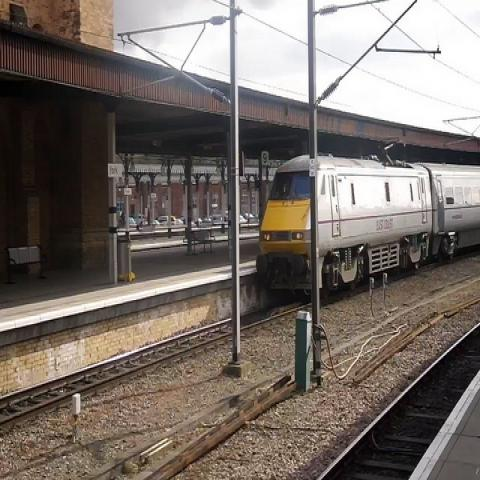car: (158, 215, 177, 226), (176, 218, 184, 227), (245, 213, 254, 218), (129, 218, 137, 223)
